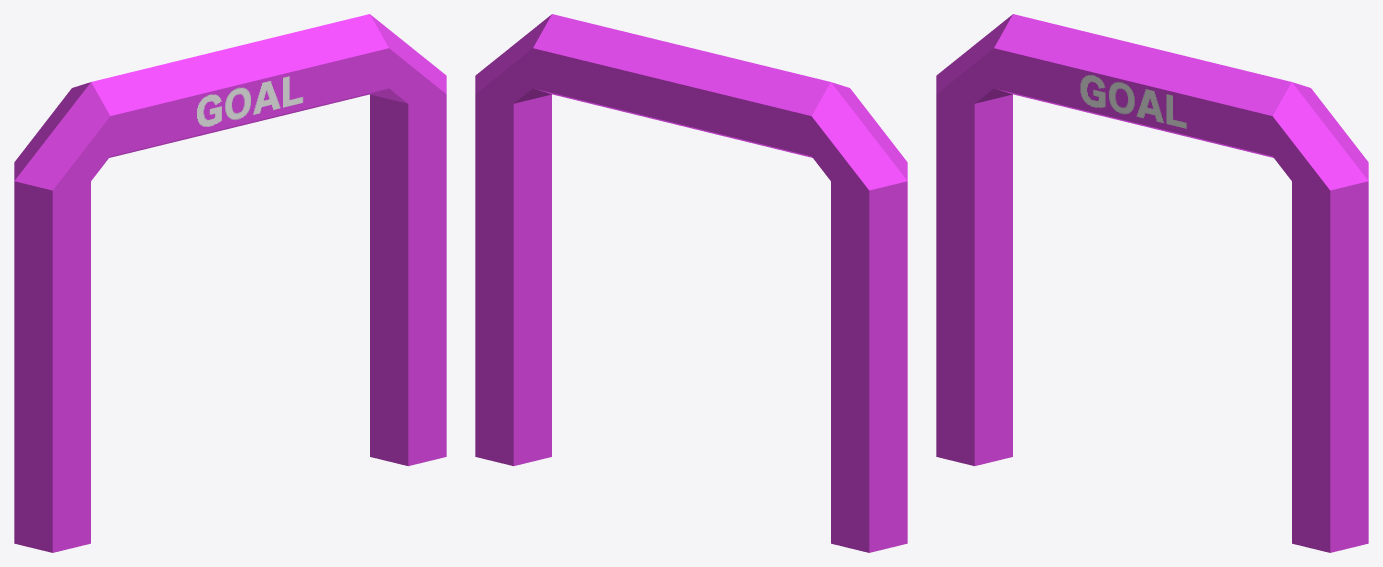
The model's file is goal.fbx.
3 views of the same model, side by side, from view 1: azimuth 30°, elevation 25°; view 2: azimuth 150°, elevation 25°; view 3: azimuth 330°, elevation 25° (orthographic).
Parts seen in each view (by area): view 1: pCylinder5; view 2: pCylinder5; view 3: pCylinder5.
Boxes of the visible parts, x1,y1,x2,y2 form: pCylinder5: (14,14,446,552); pCylinder5: (475,14,907,552); pCylinder5: (936,14,1368,552).
Bounding box in the file's own units: 698 × 683 × 107.
